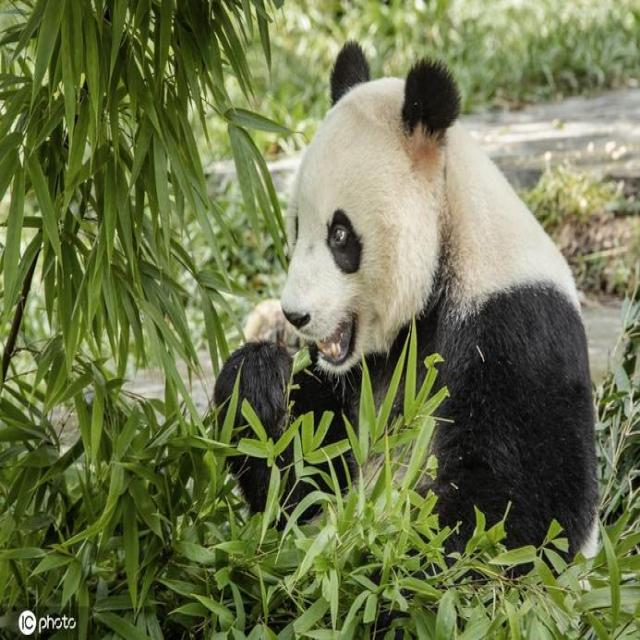panda: (209, 38, 602, 587)
